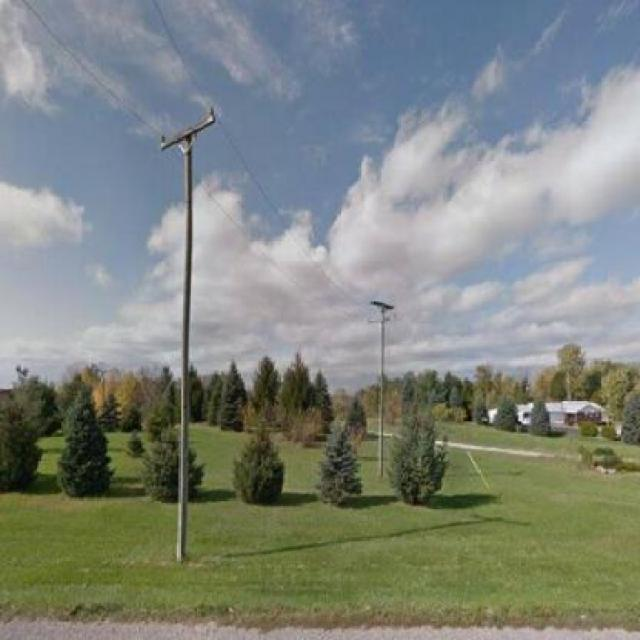pole: (150, 106, 225, 563), (357, 289, 397, 474)
